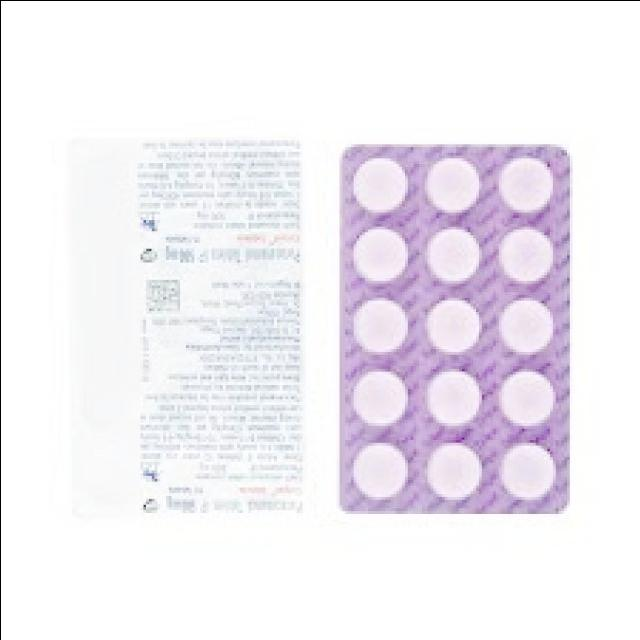authentic: (60, 128, 309, 528), (330, 137, 580, 520)
